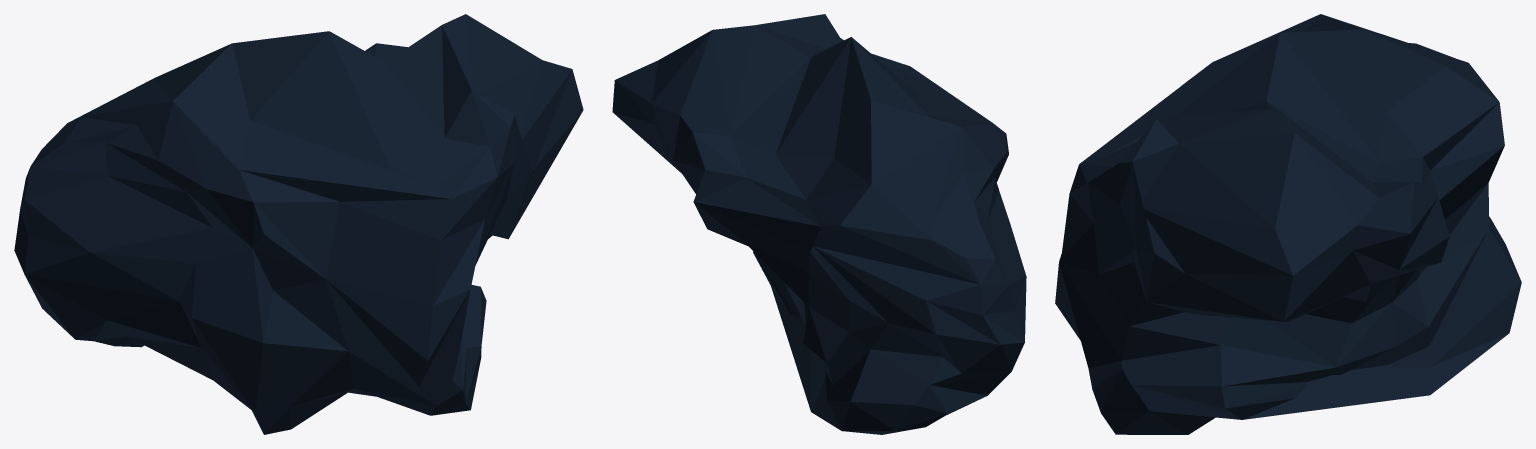
File: rock017.FBX
3 renders of one model, left to right at view 1: azimuth 30°, elevation 25°; view 2: azimuth 150°, elevation 25°; view 3: azimuth 270°, elevation 25°, orthographic. The views are drawn at different scales.
Visible parts, largest first — view 1: rock_017; view 2: rock_017; view 3: rock_017.
Boxes of the visible parts, bbox=[...] form: rock_017: bbox=[14, 14, 583, 434]; rock_017: bbox=[612, 14, 1026, 434]; rock_017: bbox=[1055, 14, 1521, 434].
Size of the model in its own units: 15.17 by 10.06 by 11.29.
